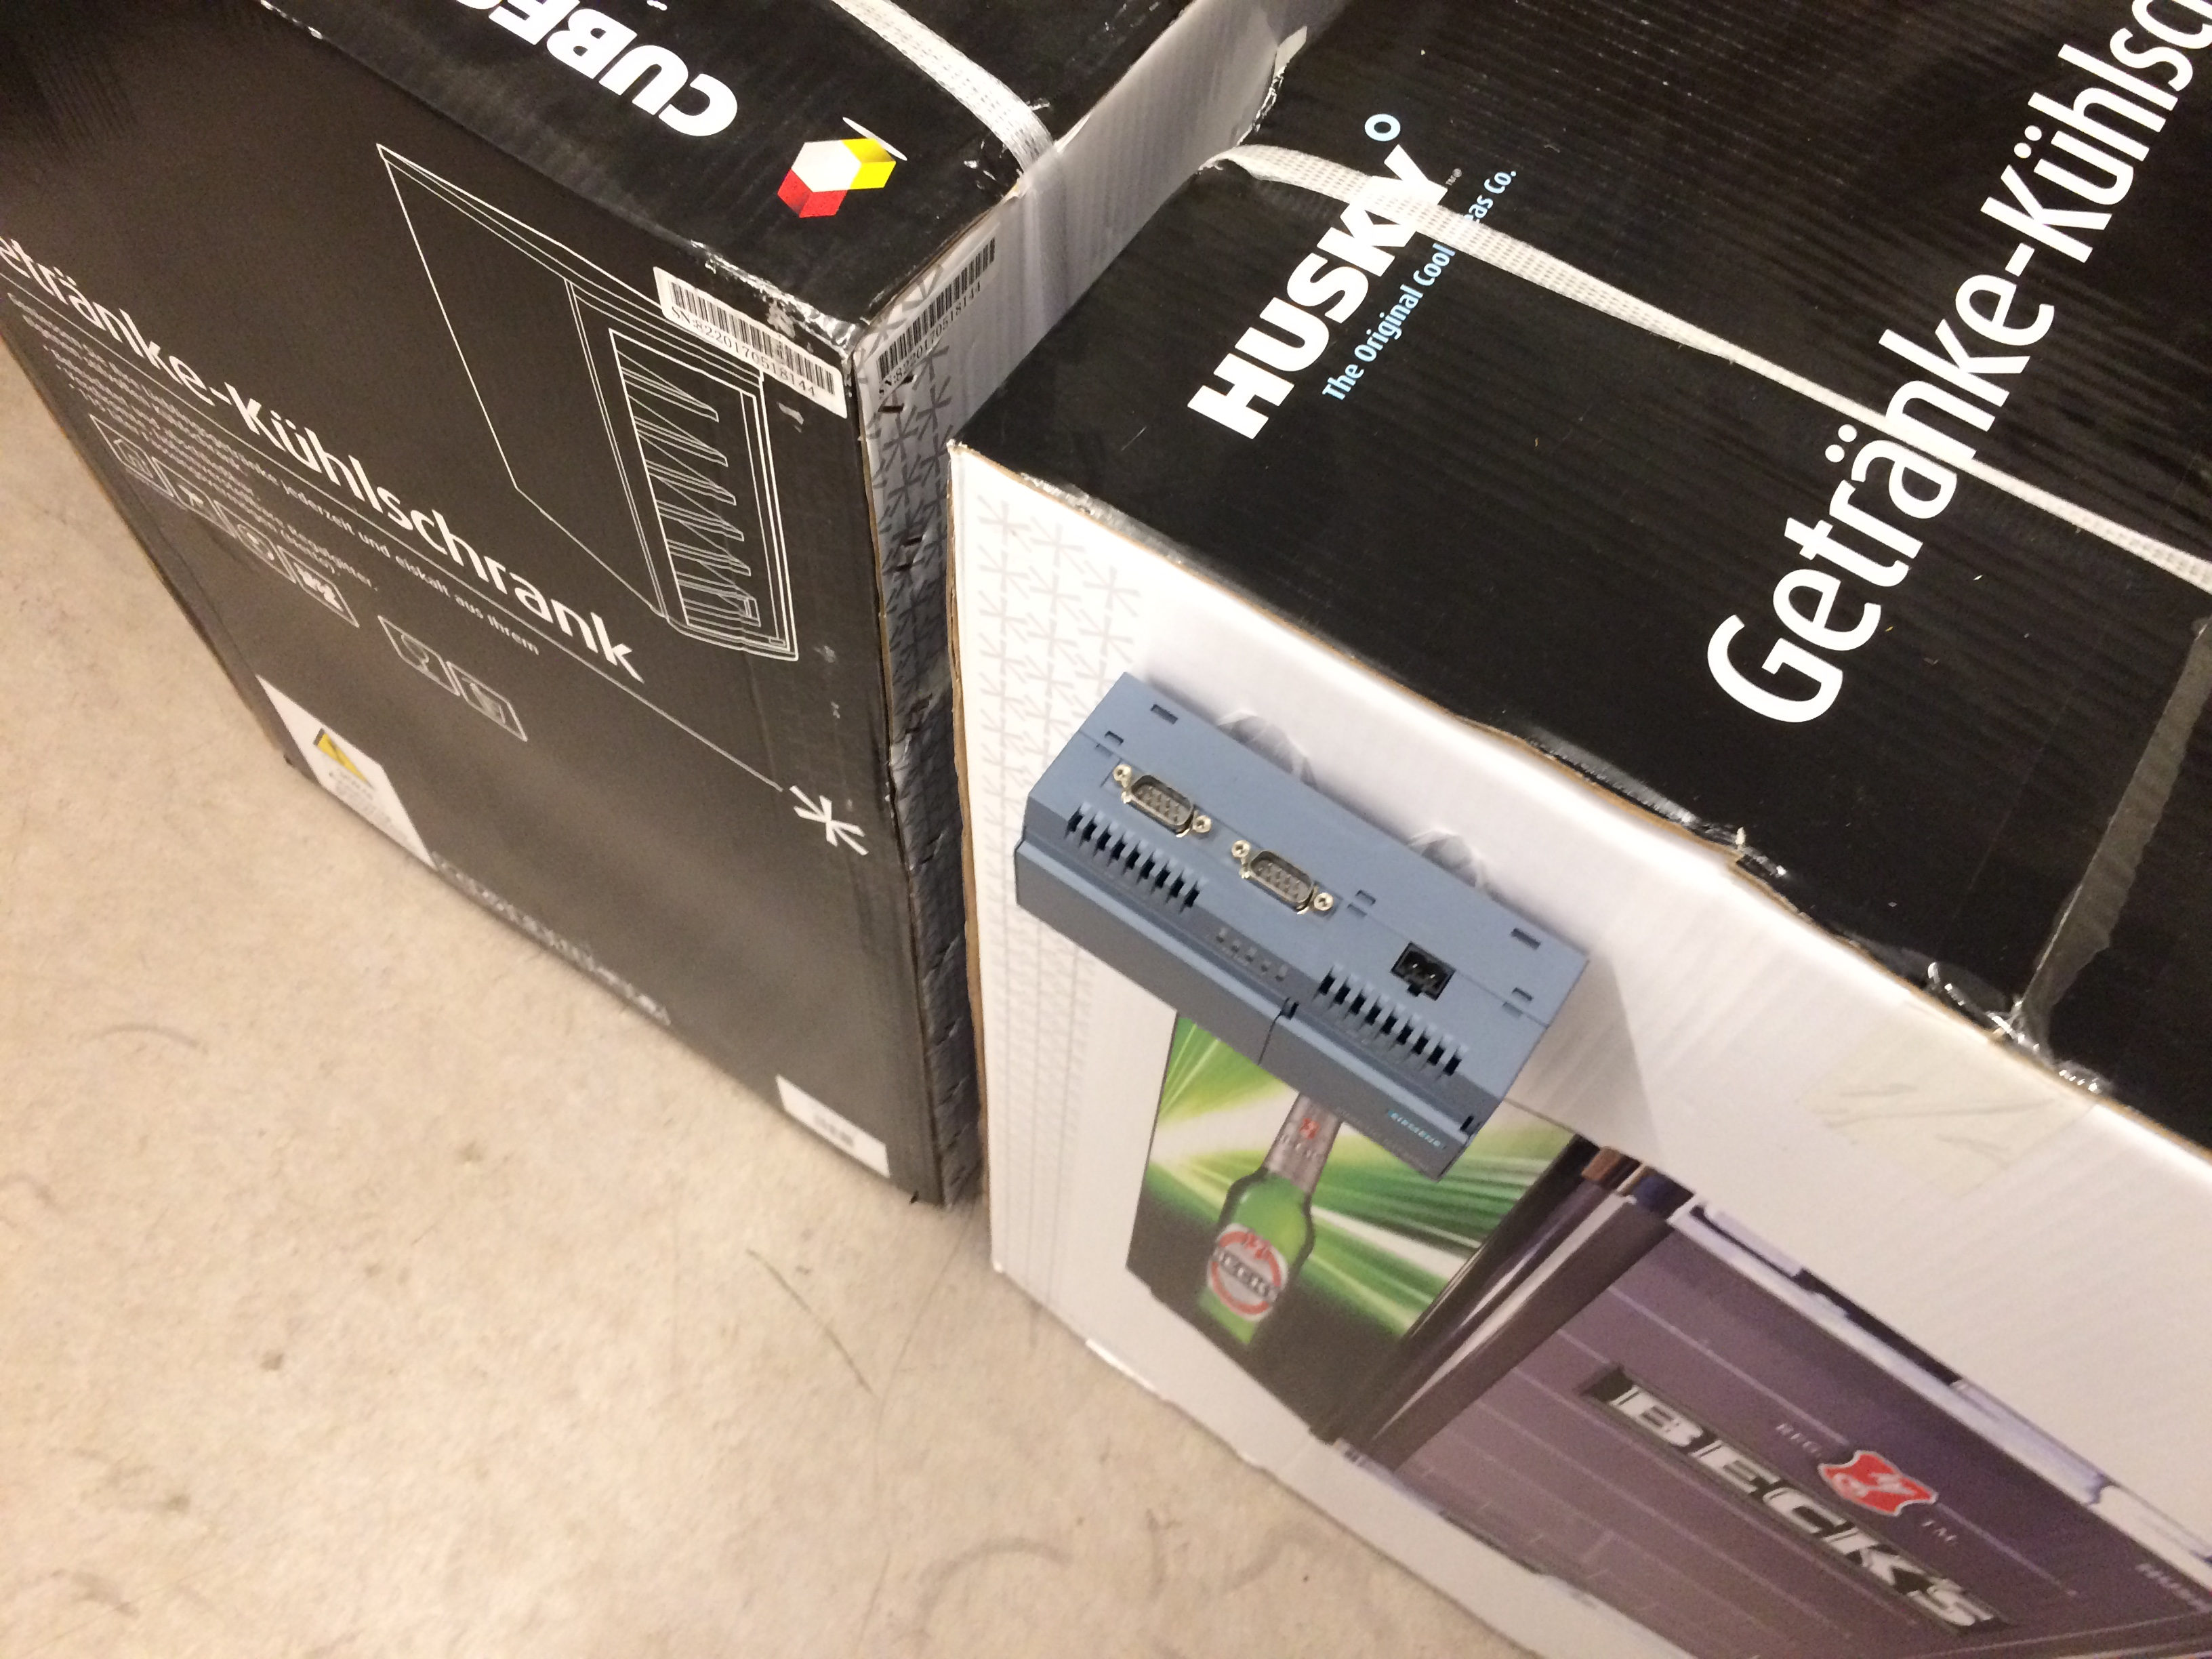iot2000: (1010, 666, 1595, 1188)
